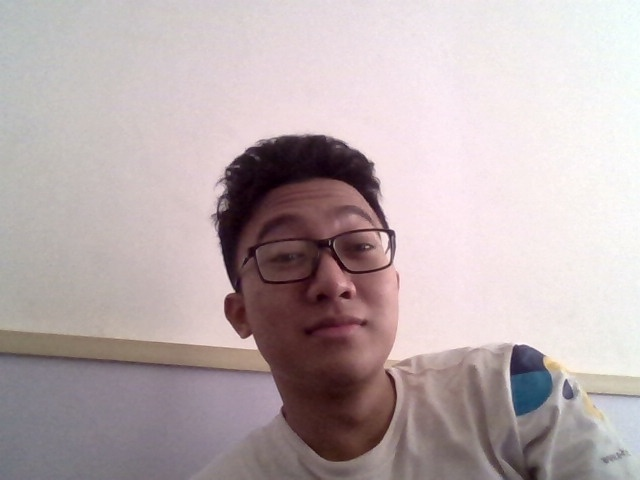Awake: (191, 136, 412, 453)
